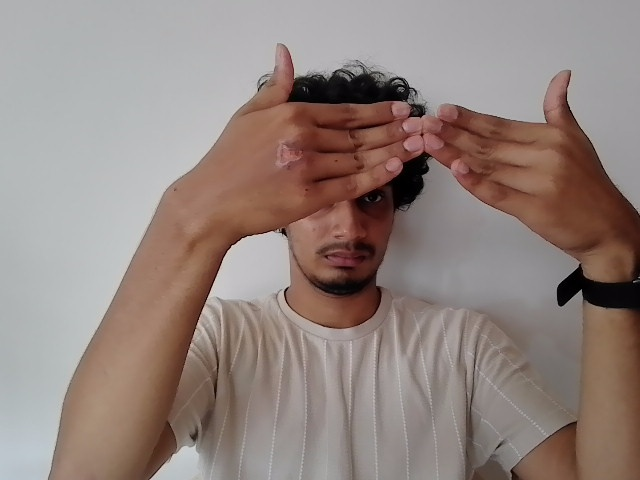family: (152, 40, 639, 259)
